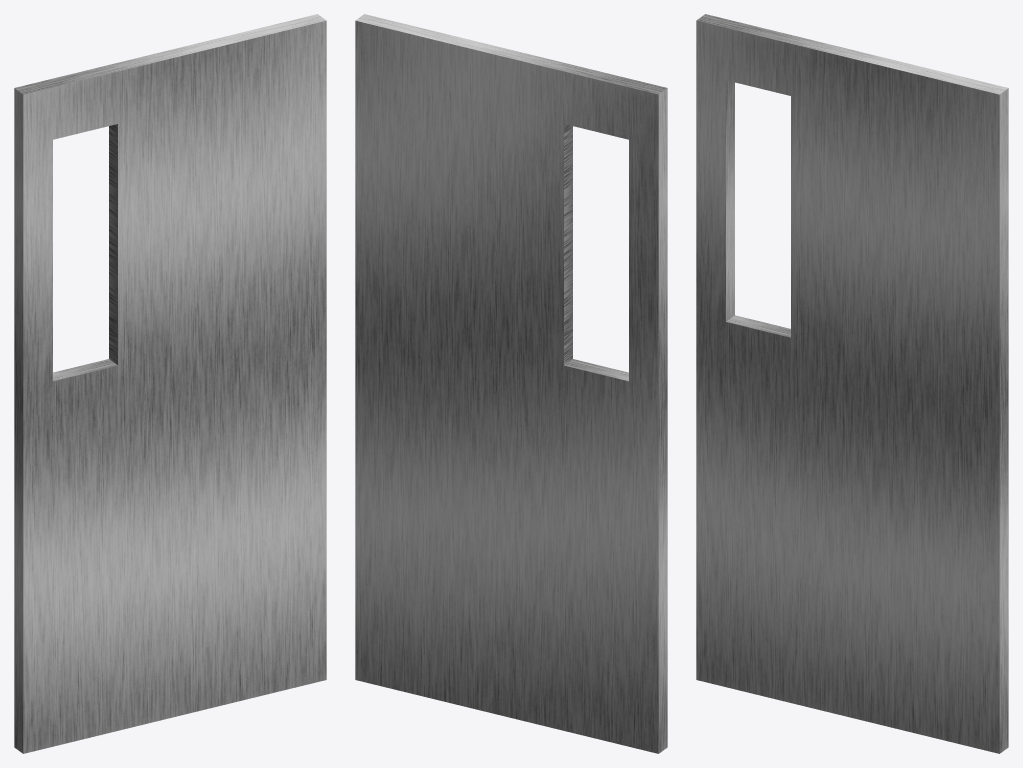
File: MirroredDoor.fbx
3 renders of one model, left to right at view 1: azimuth 30°, elevation 25°; view 2: azimuth 150°, elevation 25°; view 3: azimuth 330°, elevation 25°, orthographic.
Parts seen in each view (by area): view 1: Door; view 2: Door; view 3: Door.
Part boxes in pixels (x1,y1,x2,y2): Door: (14,14,326,753); Door: (355,14,667,753); Door: (696,14,1008,753).
Bounding box in the file's own units: 130 × 270 × 6.7.
2 materials, 1 textured.
